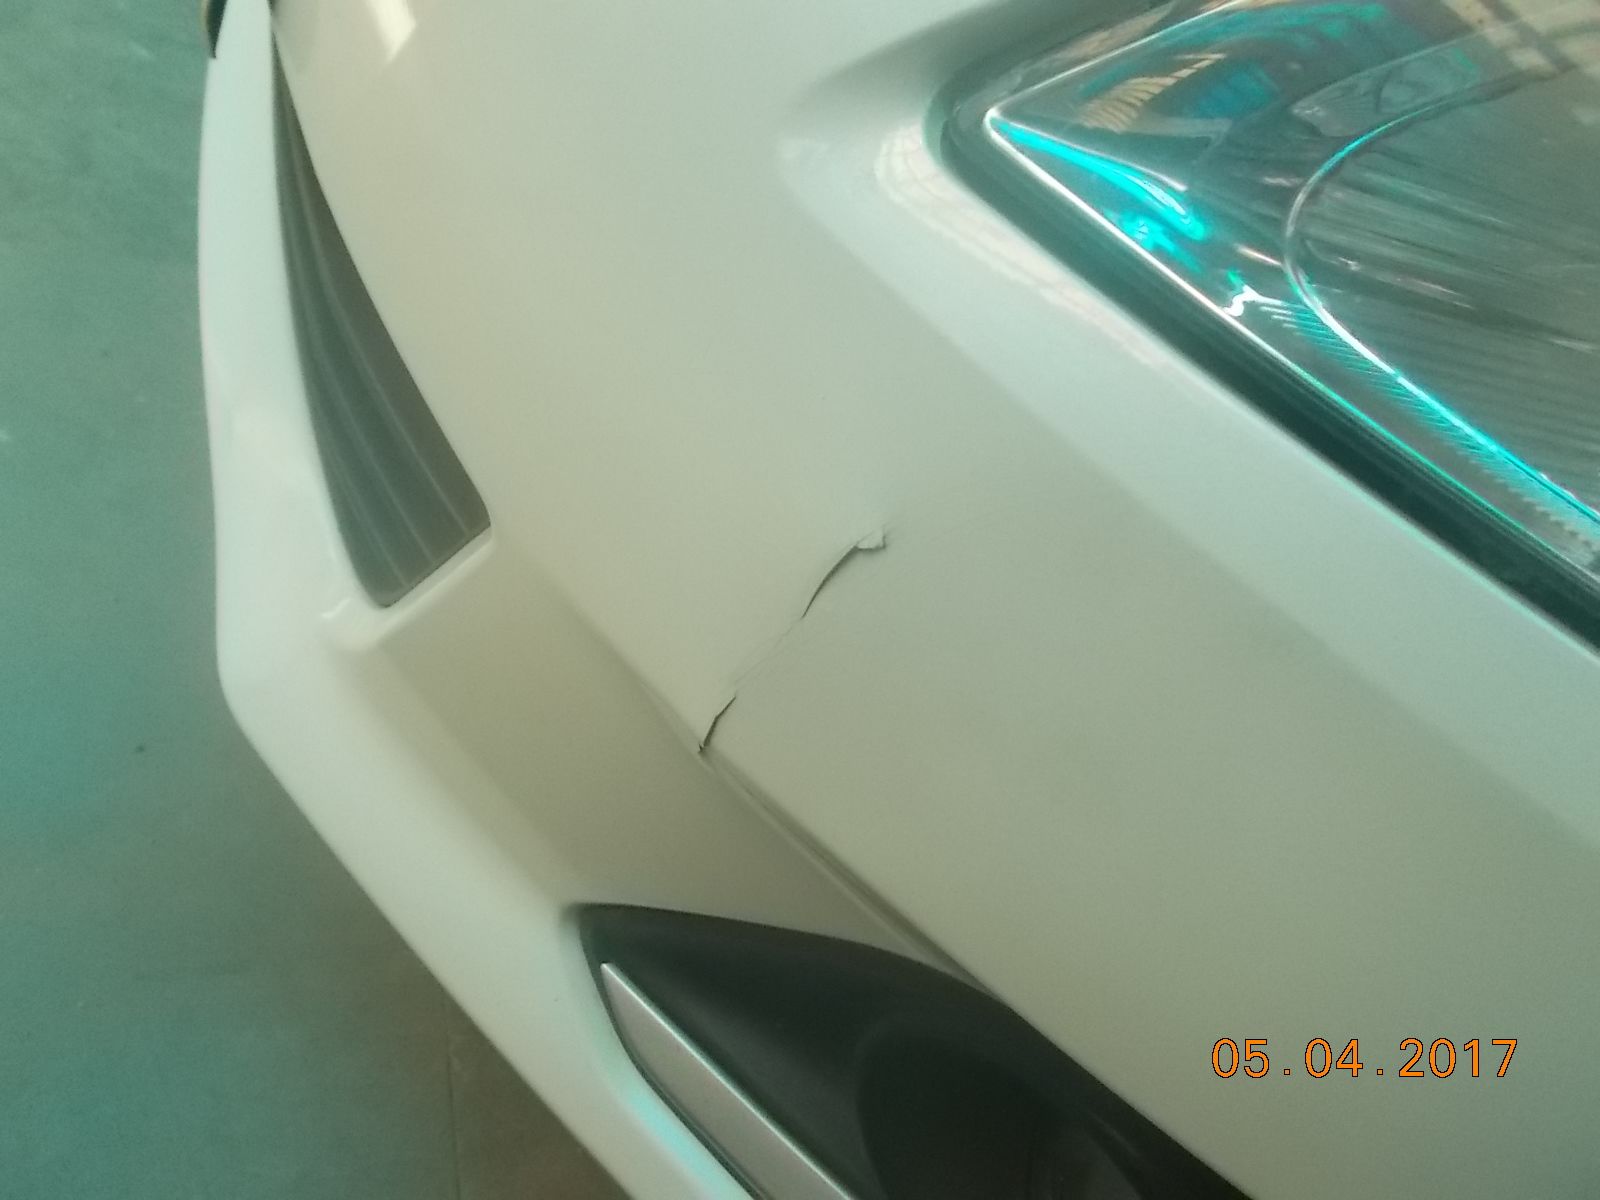Tear: (795, 509, 871, 625), (668, 684, 757, 766)
